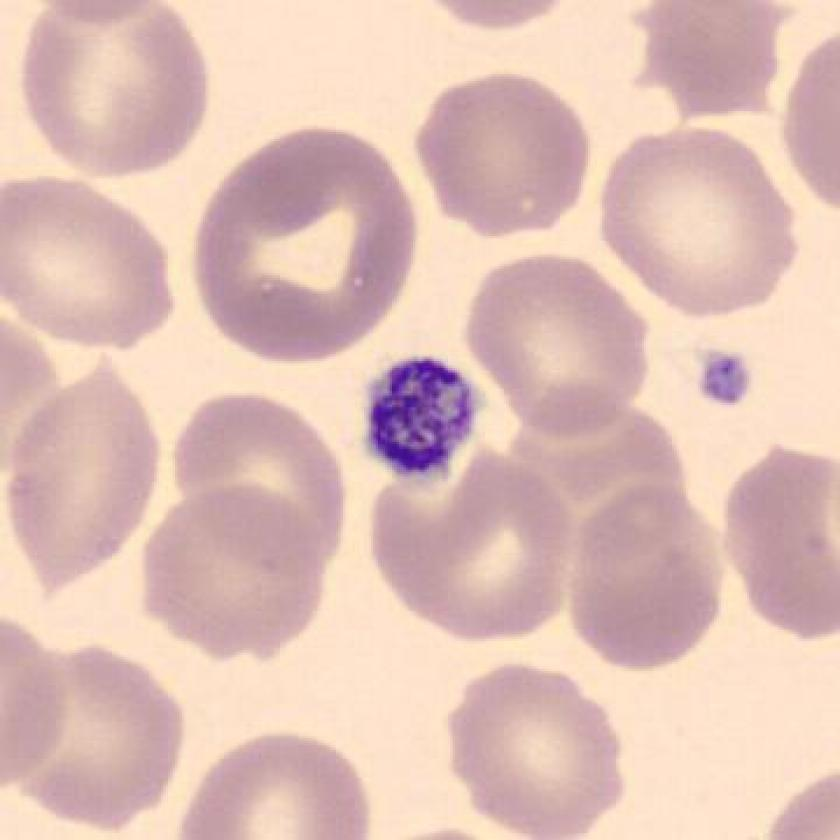platelets: (353, 346, 498, 492), (685, 341, 759, 413)
